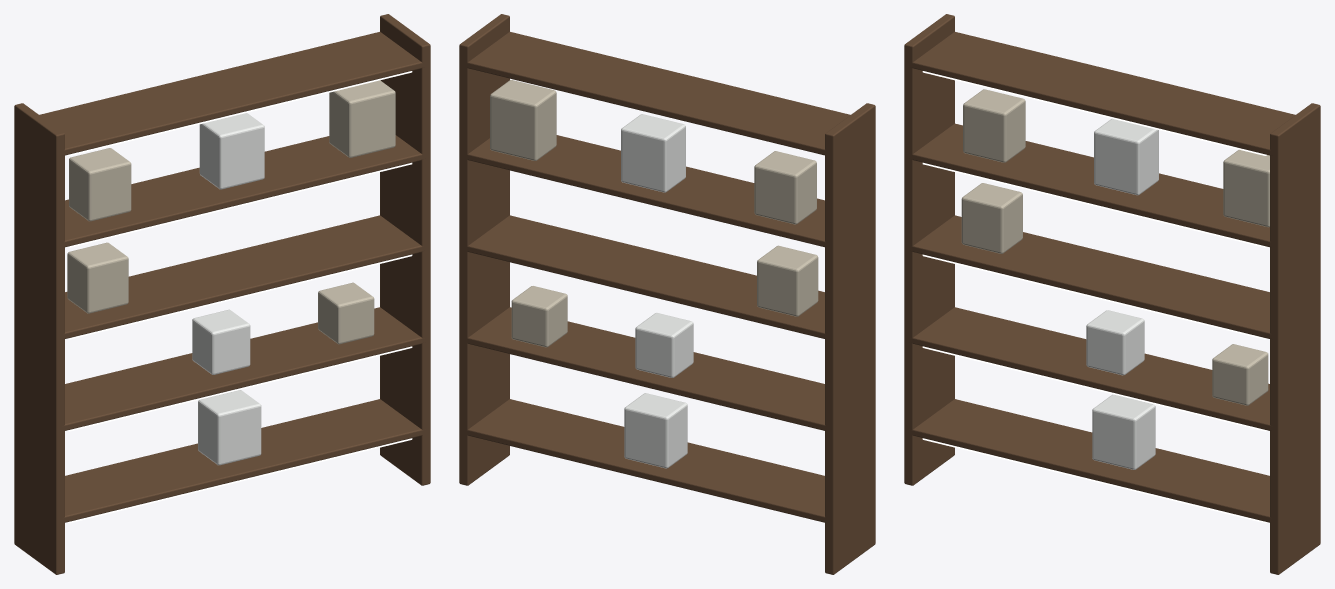
File: retail-shelf.glb
3 views of the same model, side by side, from view 1: azimuth 30°, elevation 25°; view 2: azimuth 150°, elevation 25°; view 3: azimuth 330°, elevation 25° (orthographic).
Visible parts, largest first — view 1: shelf_side_-1, shelf_4, shelf_side_1, shelf_2, shelf_0, shelf_1, shelf_3, shelf_item_3_2, shelf_item_3_1, shelf_item_0_1, shelf_item_3_0, shelf_item_2_0 (+7 smaller); view 2: shelf_side_-1, shelf_4, shelf_side_1, shelf_2, shelf_0, shelf_1, shelf_3, shelf_item_3_2, shelf_item_3_1, shelf_item_0_1, shelf_item_3_0, shelf_item_2_0 (+2 smaller); view 3: shelf_side_1, shelf_side_-1, shelf_4, shelf_2, shelf_0, shelf_1, shelf_3, shelf_item_3_1, shelf_item_0_1, shelf_item_3_0, shelf_item_2_0, shelf_item_1_1 (+7 smaller).
Boxes of the visible parts, x1,y1,x2,y2 form: shelf_side_-1: [14, 103, 64, 574]; shelf_4: [39, 32, 425, 155]; shelf_side_1: [380, 14, 430, 485]; shelf_2: [62, 215, 425, 339]; shelf_0: [62, 399, 425, 522]; shelf_1: [62, 307, 425, 430]; shelf_3: [62, 135, 425, 247]; shelf_item_3_2: [329, 80, 395, 157]; shelf_item_3_1: [199, 113, 264, 189]; shelf_item_0_1: [198, 390, 261, 465]; shelf_item_3_0: [69, 148, 131, 221]; shelf_item_2_0: [67, 242, 128, 313]; shelf_side_-1: [825, 103, 875, 574]; shelf_4: [464, 32, 850, 155]; shelf_side_1: [459, 14, 509, 485]; shelf_2: [464, 215, 827, 338]; shelf_0: [464, 399, 825, 522]; shelf_1: [465, 307, 827, 430]; shelf_3: [465, 135, 827, 247]; shelf_item_3_2: [490, 80, 556, 160]; shelf_item_3_1: [621, 114, 685, 192]; shelf_item_0_1: [624, 393, 687, 468]; shelf_item_3_0: [754, 151, 816, 224]; shelf_item_2_0: [757, 245, 818, 316]; shelf_side_1: [1270, 103, 1320, 574]; shelf_side_-1: [904, 14, 954, 485]; shelf_4: [909, 32, 1295, 155]; shelf_2: [909, 215, 1272, 339]; shelf_0: [909, 399, 1272, 522]; shelf_1: [909, 307, 1272, 430]; shelf_3: [909, 123, 1272, 247]; shelf_item_3_1: [1094, 118, 1158, 195]; shelf_item_0_1: [1092, 394, 1155, 469]; shelf_item_3_0: [963, 89, 1025, 162]; shelf_item_2_0: [961, 183, 1022, 253]; shelf_item_1_1: [1086, 310, 1144, 375].
Bounding box in the file's own units: 2.05 × 2.3 × 0.4.
